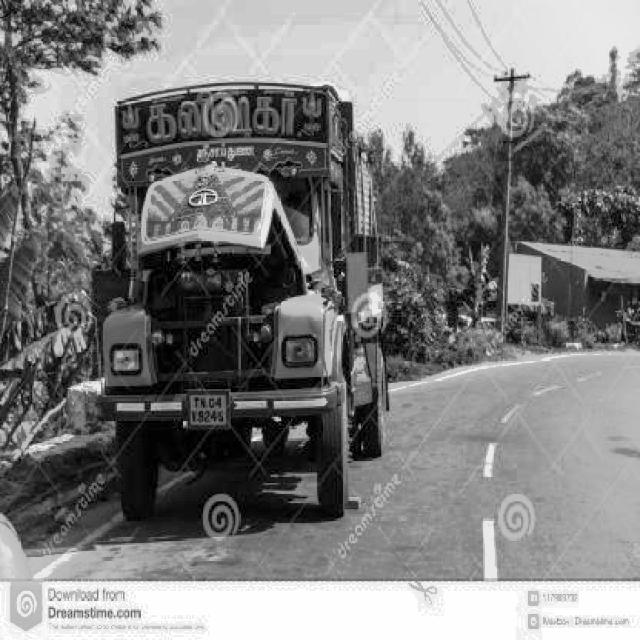HCV: (116, 88, 370, 504)
